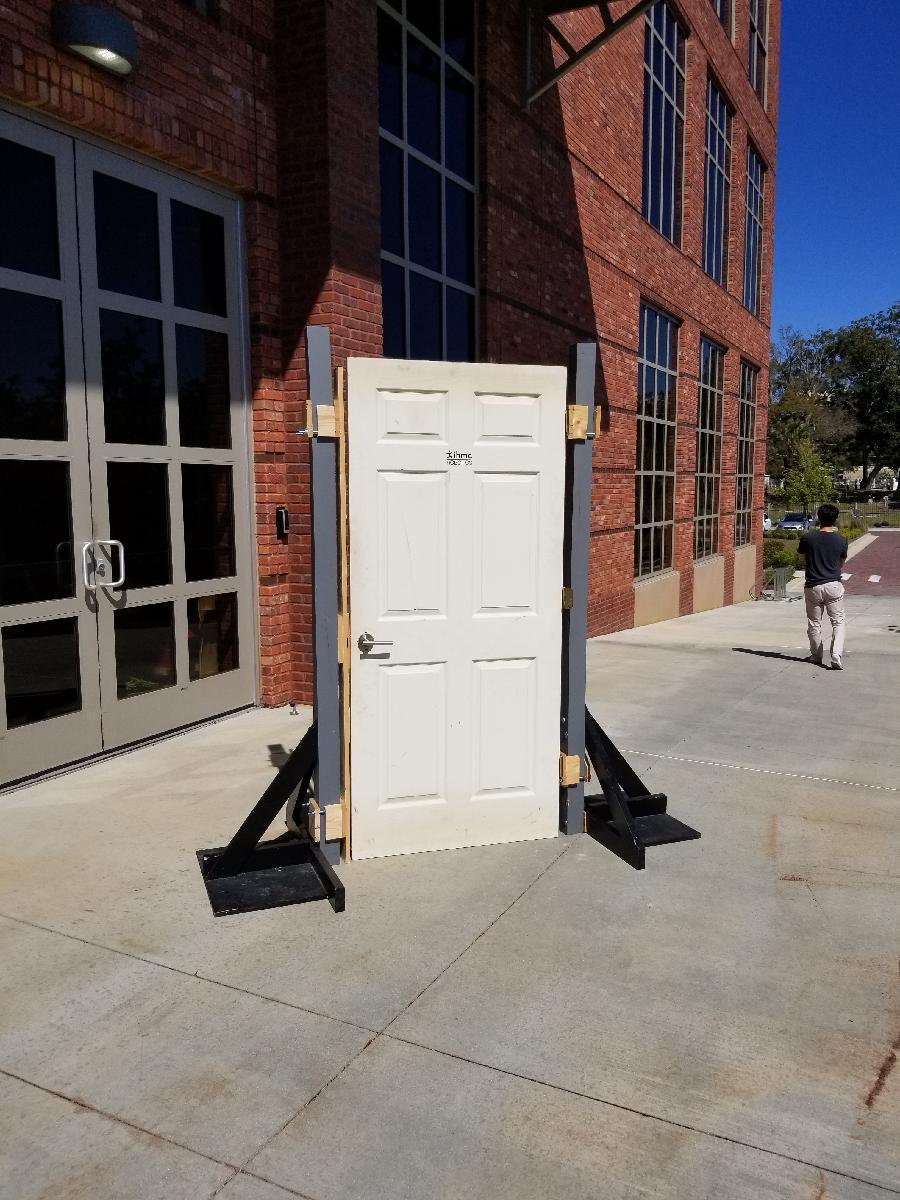door: (348, 356, 562, 836)
handle: (358, 631, 396, 653)
